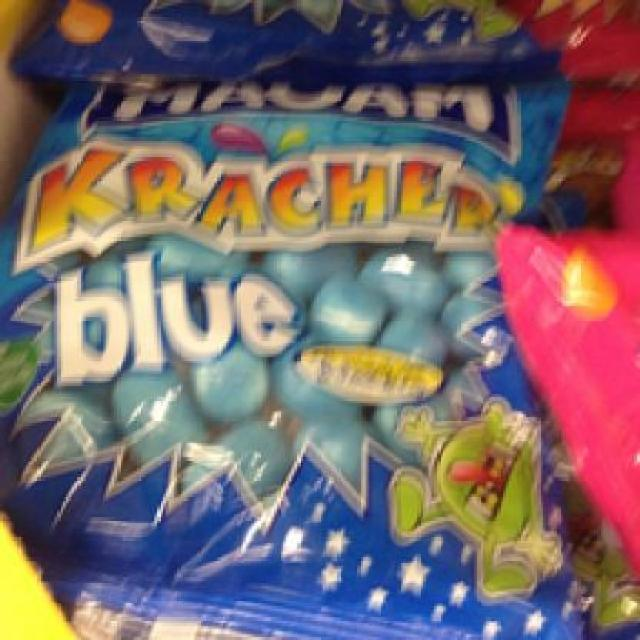Candy: (28, 63, 544, 626)
